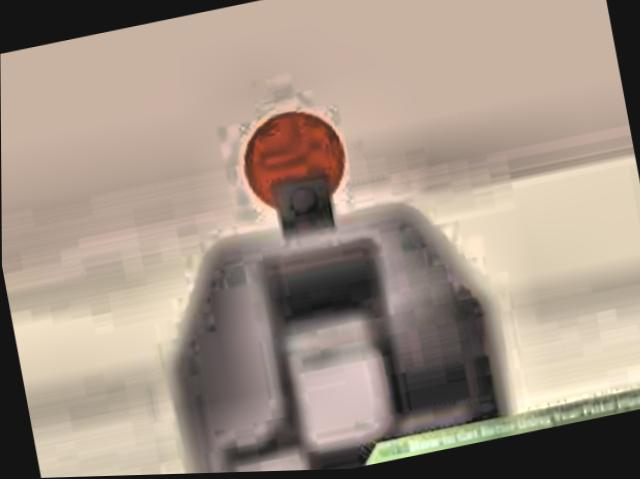pistol: (125, 58, 506, 476)
